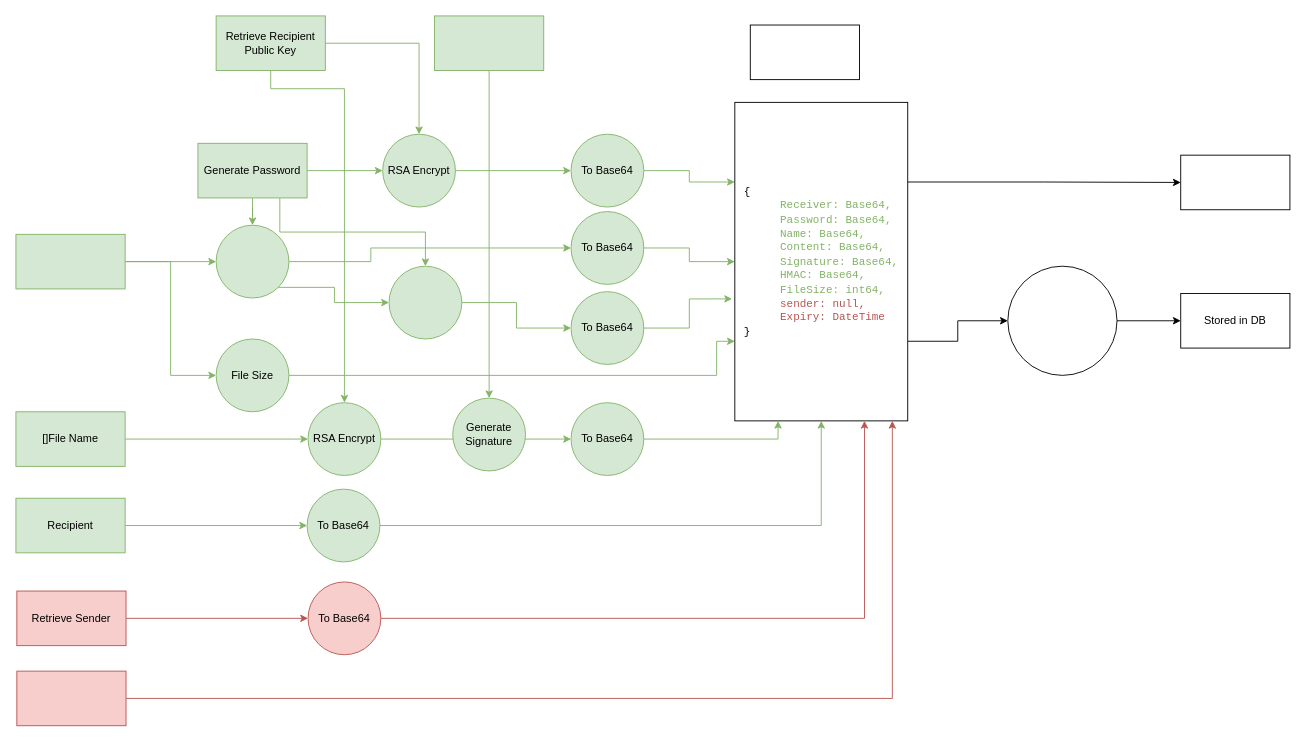
Image size: 1306x742. Some labels were removed from this diagram. The shapes that lost their labels are listed below. From the top down, each one's centre as x and y in pixels, then its label:
[489,43]: Retrieve Sender's Private Key
[804,52]: Key: Green: Client Code Red: Server Code
[1235,182]: Stored in S3
[70,261]: []Data
[252,261]: AES Encrypt
[425,302]: Generate HMAC
[1062,320]: Remove: { Content }
[71,698]: Generate DateTime 7 days in future
